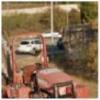tractors: (3, 34, 90, 99)
